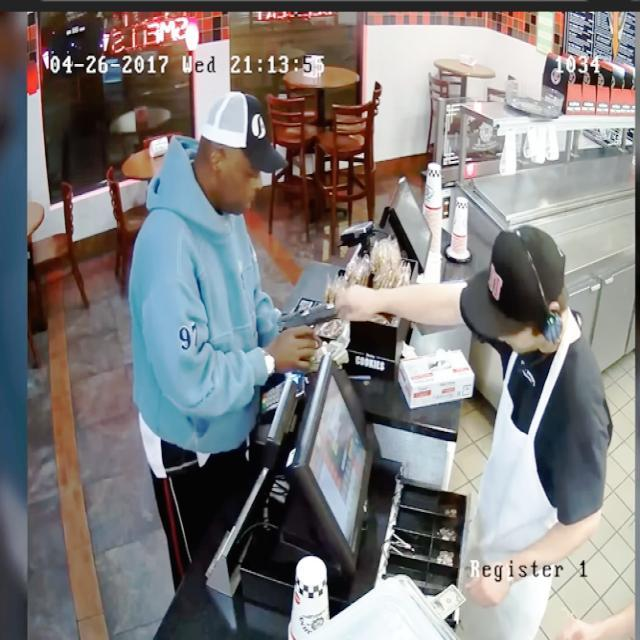Gun: (263, 291, 354, 348)
